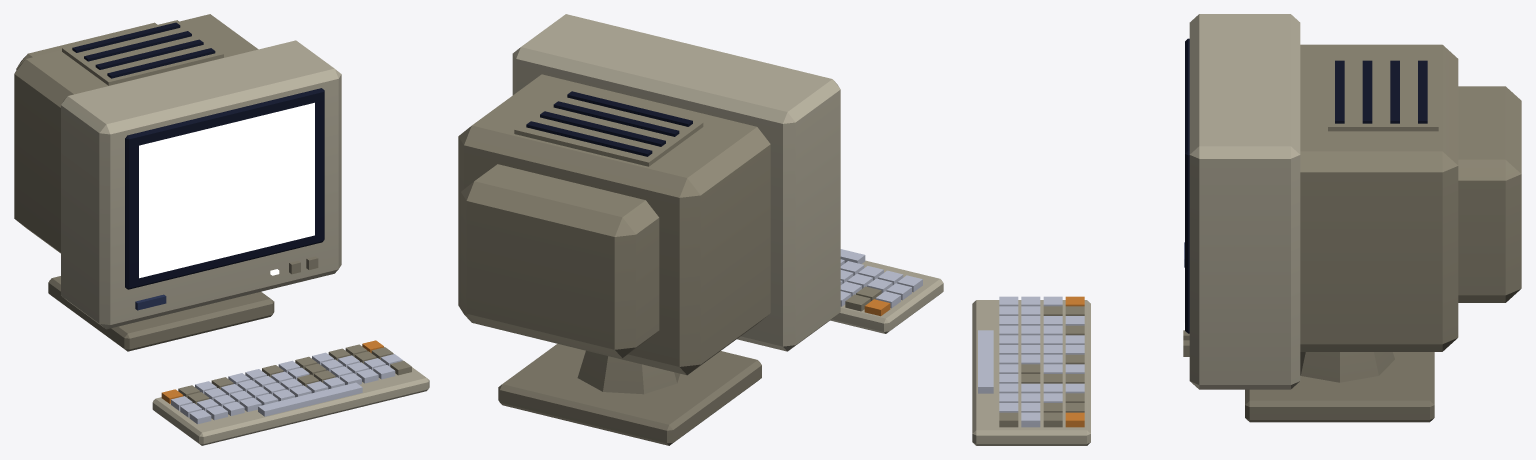
The model's file is monitor.glb.
3 renders of one model, left to right at view 1: azimuth 30°, elevation 25°; view 2: azimuth 150°, elevation 25°; view 3: azimuth 270°, elevation 25°, orthographic. The views are drawn at different scales.
Parts seen in each view (by area): view 1: Monitor, Monitor_Screen, Monitor_Keyboard; view 2: Monitor, Monitor_Keyboard; view 3: Monitor, Monitor_Keyboard.
Part boxes in pixels (left/top/right/bottom): Monitor: left=14, top=14, right=341, bottom=351; Monitor_Screen: left=139, top=102, right=314, bottom=278; Monitor_Keyboard: left=152, top=340, right=429, bottom=445; Monitor: left=458, top=14, right=840, bottom=445; Monitor_Keyboard: left=830, top=249, right=943, bottom=333; Monitor: left=1183, top=14, right=1521, bottom=422; Monitor_Keyboard: left=972, top=296, right=1090, bottom=445.
Size of the model in its own units: 0.42 by 0.42 by 0.695.
